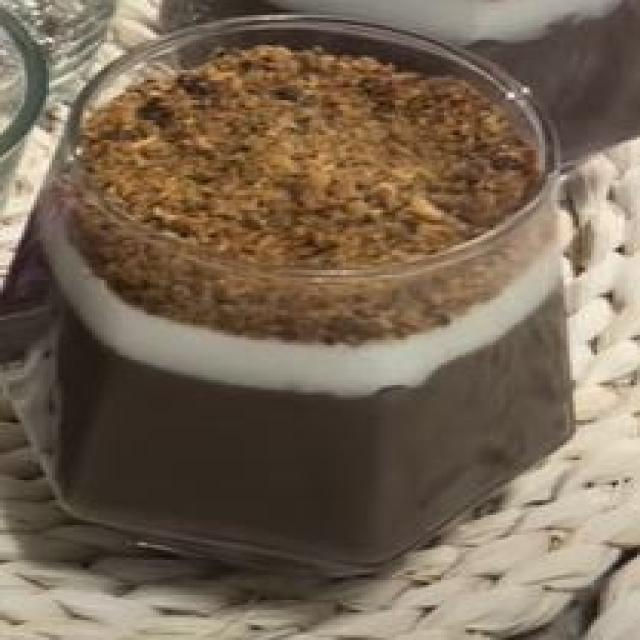asida-zkoukou: (18, 22, 618, 573)
